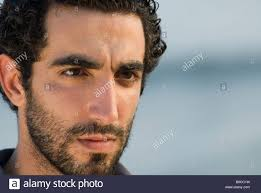middle_eastern_male: (1, 4, 168, 174)
